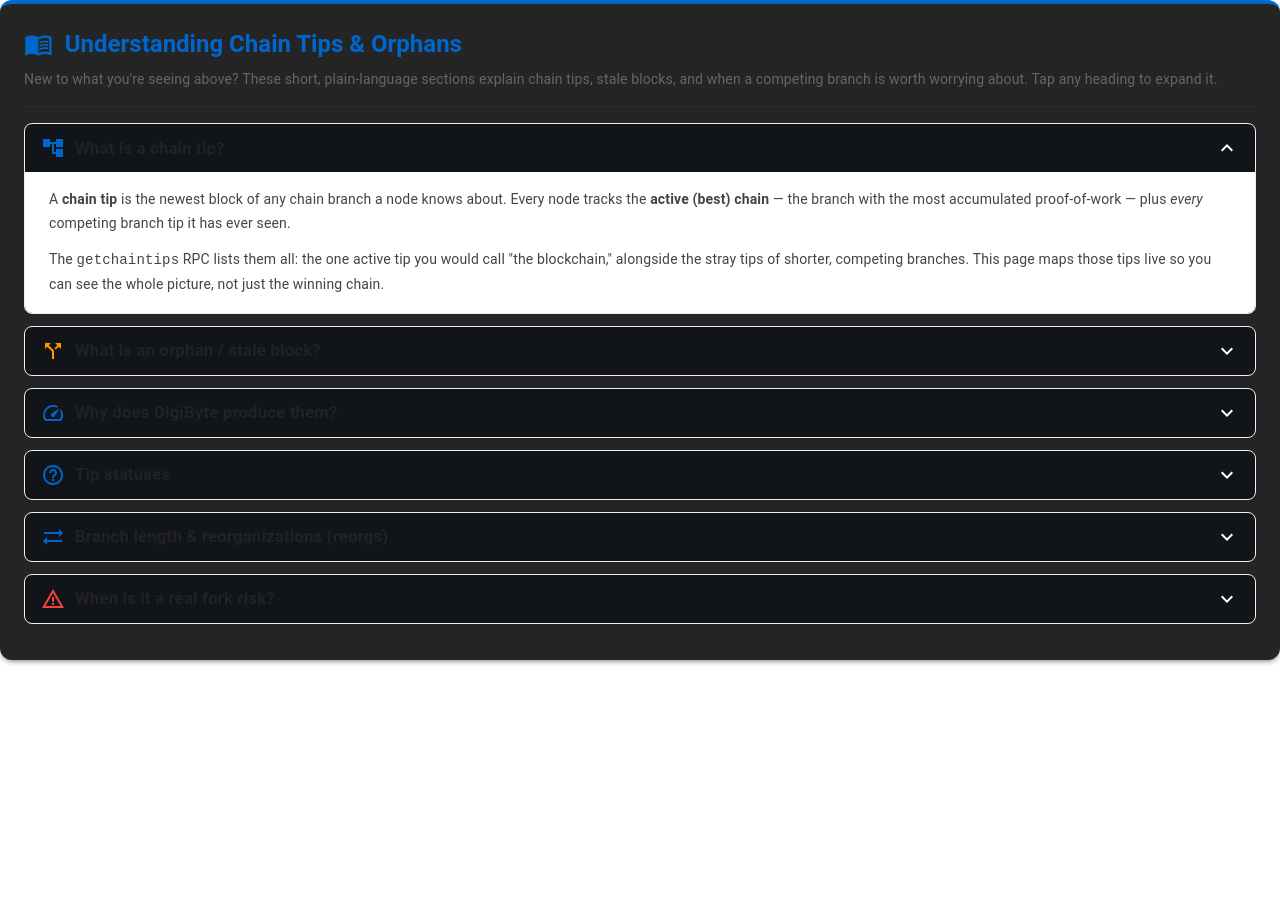
Test: ChainTipsExplainer › renders the five tip-status chips with their status names
The width and height of the screenshot is (1280, 900).
// "Tip statuses" is collapsed by default — expand it to reveal the legend.
Click the button "Tip statuses" at (123, 474), box [25, 451, 1255, 499]
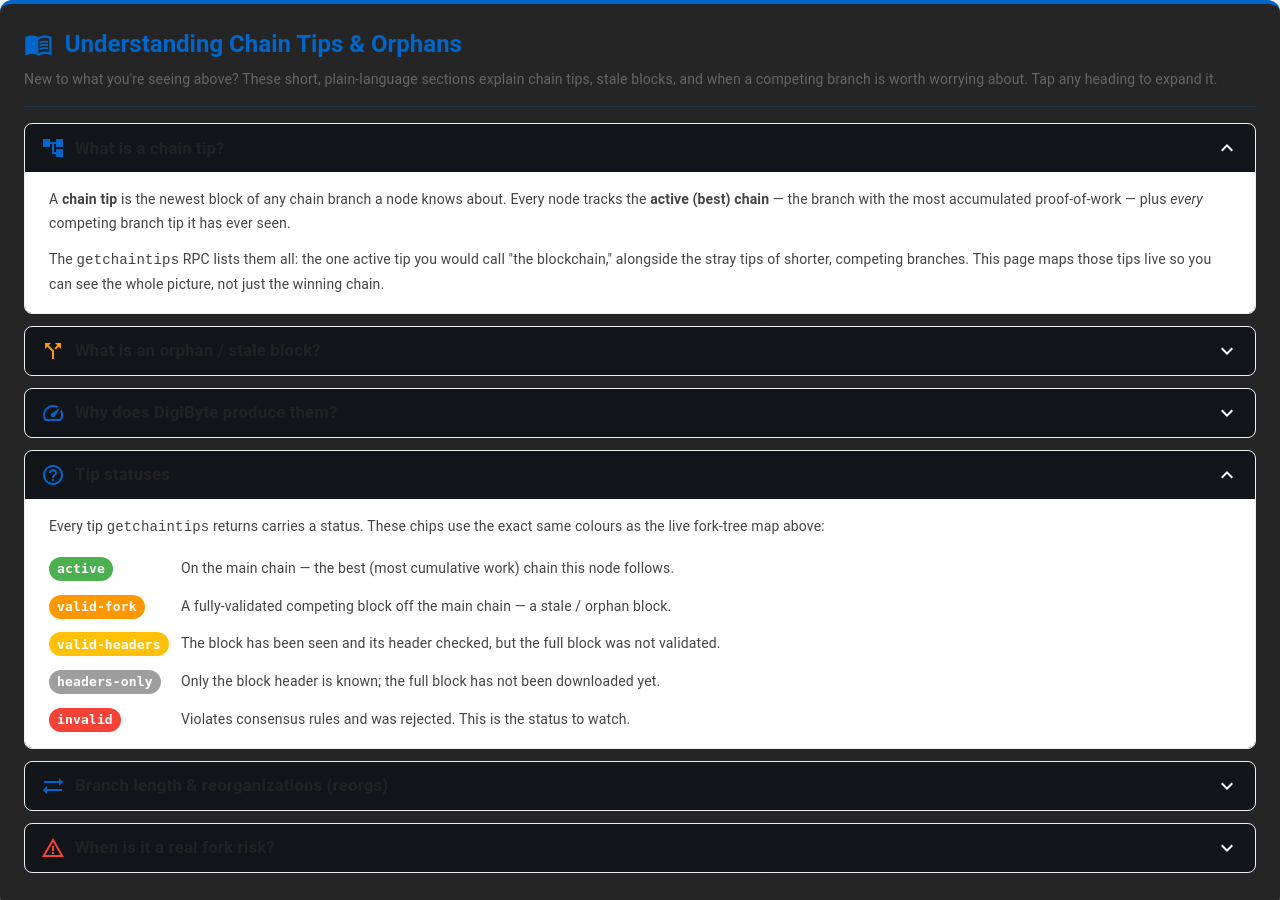
Result: the text "active" is shown at [57, 561, 105, 576]
Result: the text "valid-fork" is shown at [57, 599, 137, 614]
Result: the text "valid-headers" is shown at [49, 634, 169, 654]
